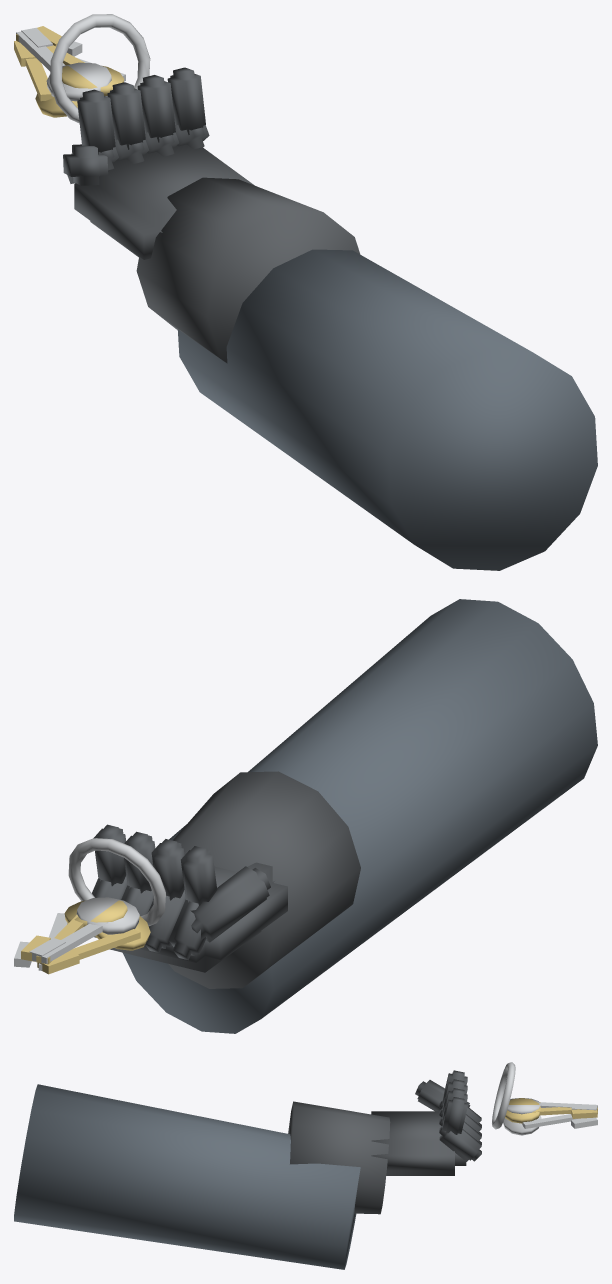
Rendered from vm_keys.glb.
The picture shows the model from 3 angles, top to bottom: view 1: azimuth 30°, elevation 25°; view 2: azimuth 150°, elevation 25°; view 3: azimuth 270°, elevation 25°; orthographic projection. The views are drawn at different scales.
Visible parts, largest first — view 1: CoatSleeve, GloveWrist, Palm, KeyRing, FingerDist_0, FingerDist_3, FingerDist_2, FingerDist_1, Thumb, KeyBow_1, KeyBow_2; view 2: CoatSleeve, GloveWrist, Palm, Thumb, KeyRing, FingerDist_0, FingerDist_1, KeyBow_1, FingerProx_0, FingerDist_3, FingerProx_1, FingerDist_2 (+4 smaller); view 3: CoatSleeve, GloveWrist, Palm, KeyRing, FingerProx_3, FingerDist_3, Thumb, KeyBow_2, KeyBlade_3, KeyBow_3, KeyBow_1.
Part boxes in pixels (left/top/right/bottom): CoatSleeve: left=177, top=249, right=597, bottom=570; GloveWrist: left=136, top=177, right=360, bottom=363; Palm: left=74, top=144, right=254, bottom=259; KeyRing: left=50, top=14, right=150, bottom=123; FingerDist_0: left=77, top=89, right=115, bottom=154; FingerDist_3: left=167, top=67, right=205, bottom=134; FingerDist_2: left=137, top=75, right=175, bottom=142; FingerDist_1: left=107, top=82, right=145, bottom=149; Thumb: left=63, top=144, right=108, bottom=185; KeyBow_1: left=46, top=62, right=111, bottom=101; KeyBow_2: left=62, top=65, right=124, bottom=95; CoatSleeve: left=123, top=599, right=597, bottom=1033; GloveWrist: left=168, top=771, right=360, bottom=988; Palm: left=110, top=862, right=287, bottom=972; Thumb: left=190, top=866, right=270, bottom=942; KeyRing: left=68, top=838, right=165, bottom=925; FingerDist_0: left=181, top=846, right=217, bottom=905; FingerDist_1: left=151, top=839, right=184, bottom=900; KeyBow_1: left=76, top=897, right=139, bottom=934; FingerProx_0: left=168, top=899, right=206, bottom=960; FingerDist_3: left=93, top=824, right=125, bottom=886; FingerProx_1: left=145, top=890, right=185, bottom=952; FingerDist_2: left=124, top=831, right=155, bottom=893; CoatSleeve: left=14, top=1084, right=360, bottom=1269; GloveWrist: left=288, top=1101, right=390, bottom=1214; Palm: left=371, top=1111, right=466, bottom=1175; KeyRing: left=492, top=1062, right=515, bottom=1129; FingerProx_3: left=439, top=1127, right=481, bottom=1161; FingerDist_3: left=442, top=1097, right=467, bottom=1134; Thumb: left=415, top=1080, right=470, bottom=1111; KeyBow_2: left=505, top=1098, right=541, bottom=1123; KeyBlade_3: left=522, top=1114, right=577, bottom=1128; KeyBow_3: left=503, top=1115, right=541, bottom=1135; KeyBow_1: left=507, top=1098, right=541, bottom=1114.
Size of the model in its own units: 0.1163 by 0.1474 by 0.4193.
